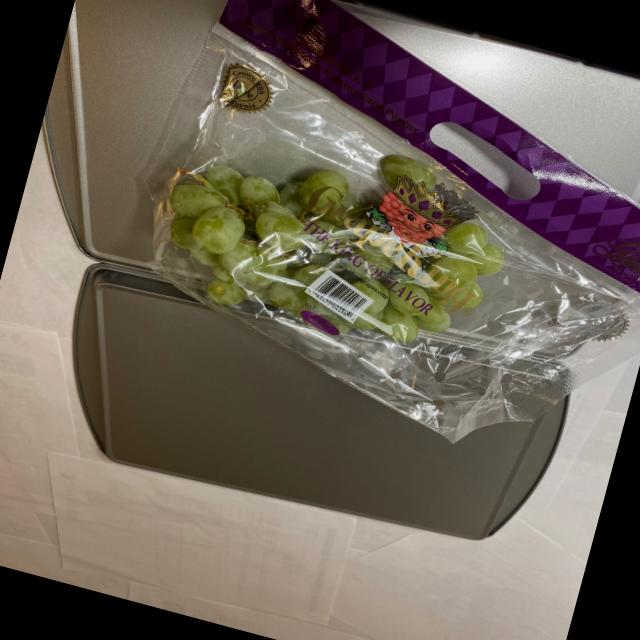grapes: (122, 110, 512, 368)
